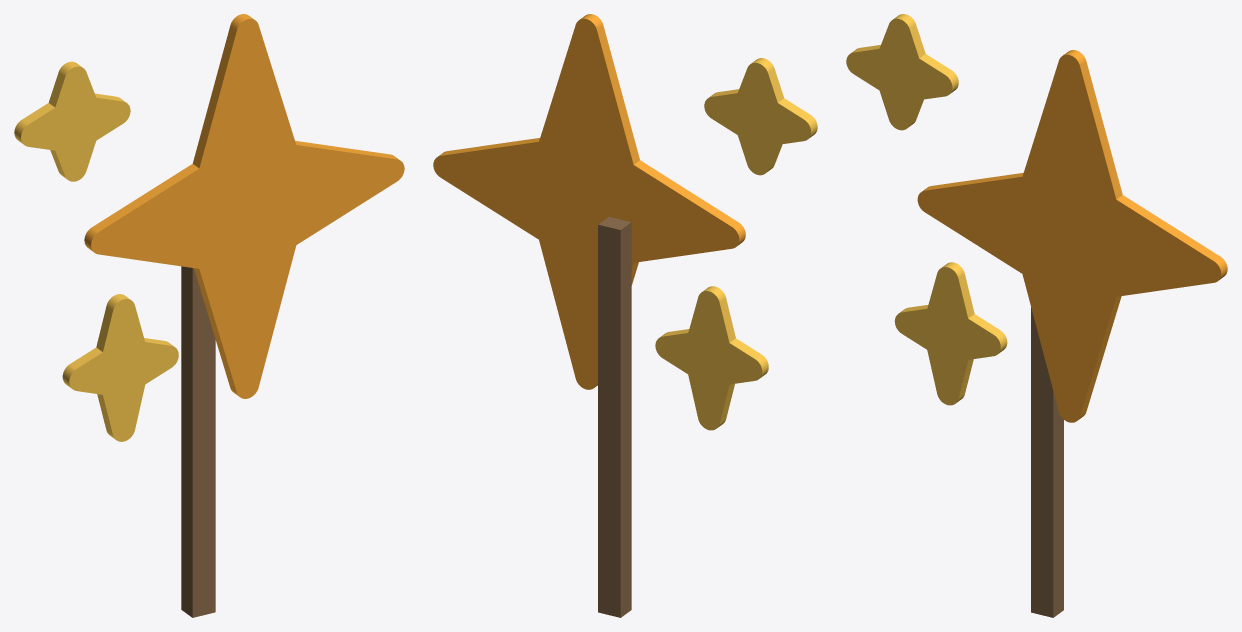
File: etincelles.glb
3 renders of one model, left to right at view 1: azimuth 30°, elevation 25°; view 2: azimuth 150°, elevation 25°; view 3: azimuth 330°, elevation 25°, orthographic. The views are drawn at different scales.
Bounding box in the file's own units: 1 × 1.47 × 0.093.
